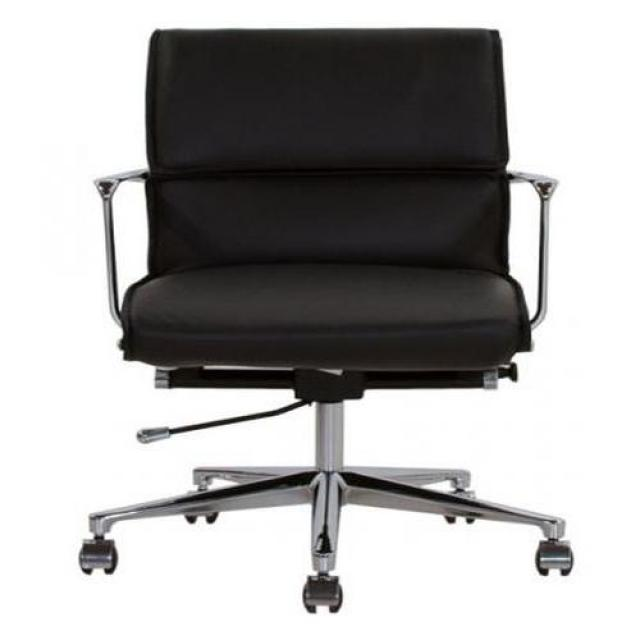swivelchair: (82, 29, 568, 616)
